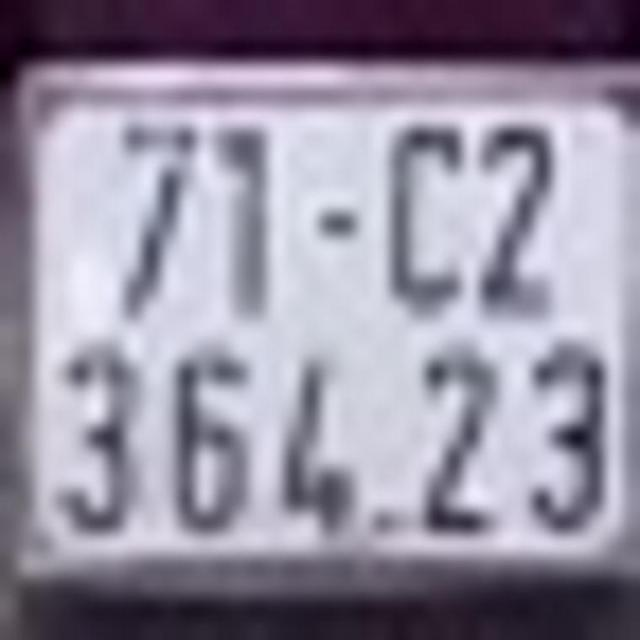1: (210, 117, 280, 322)
2: (410, 348, 505, 535), (479, 113, 556, 329)
3: (62, 338, 142, 529), (526, 341, 602, 536)
4: (282, 349, 368, 544)
6: (174, 339, 253, 535)
7: (111, 114, 196, 321)
C: (381, 116, 467, 314)
